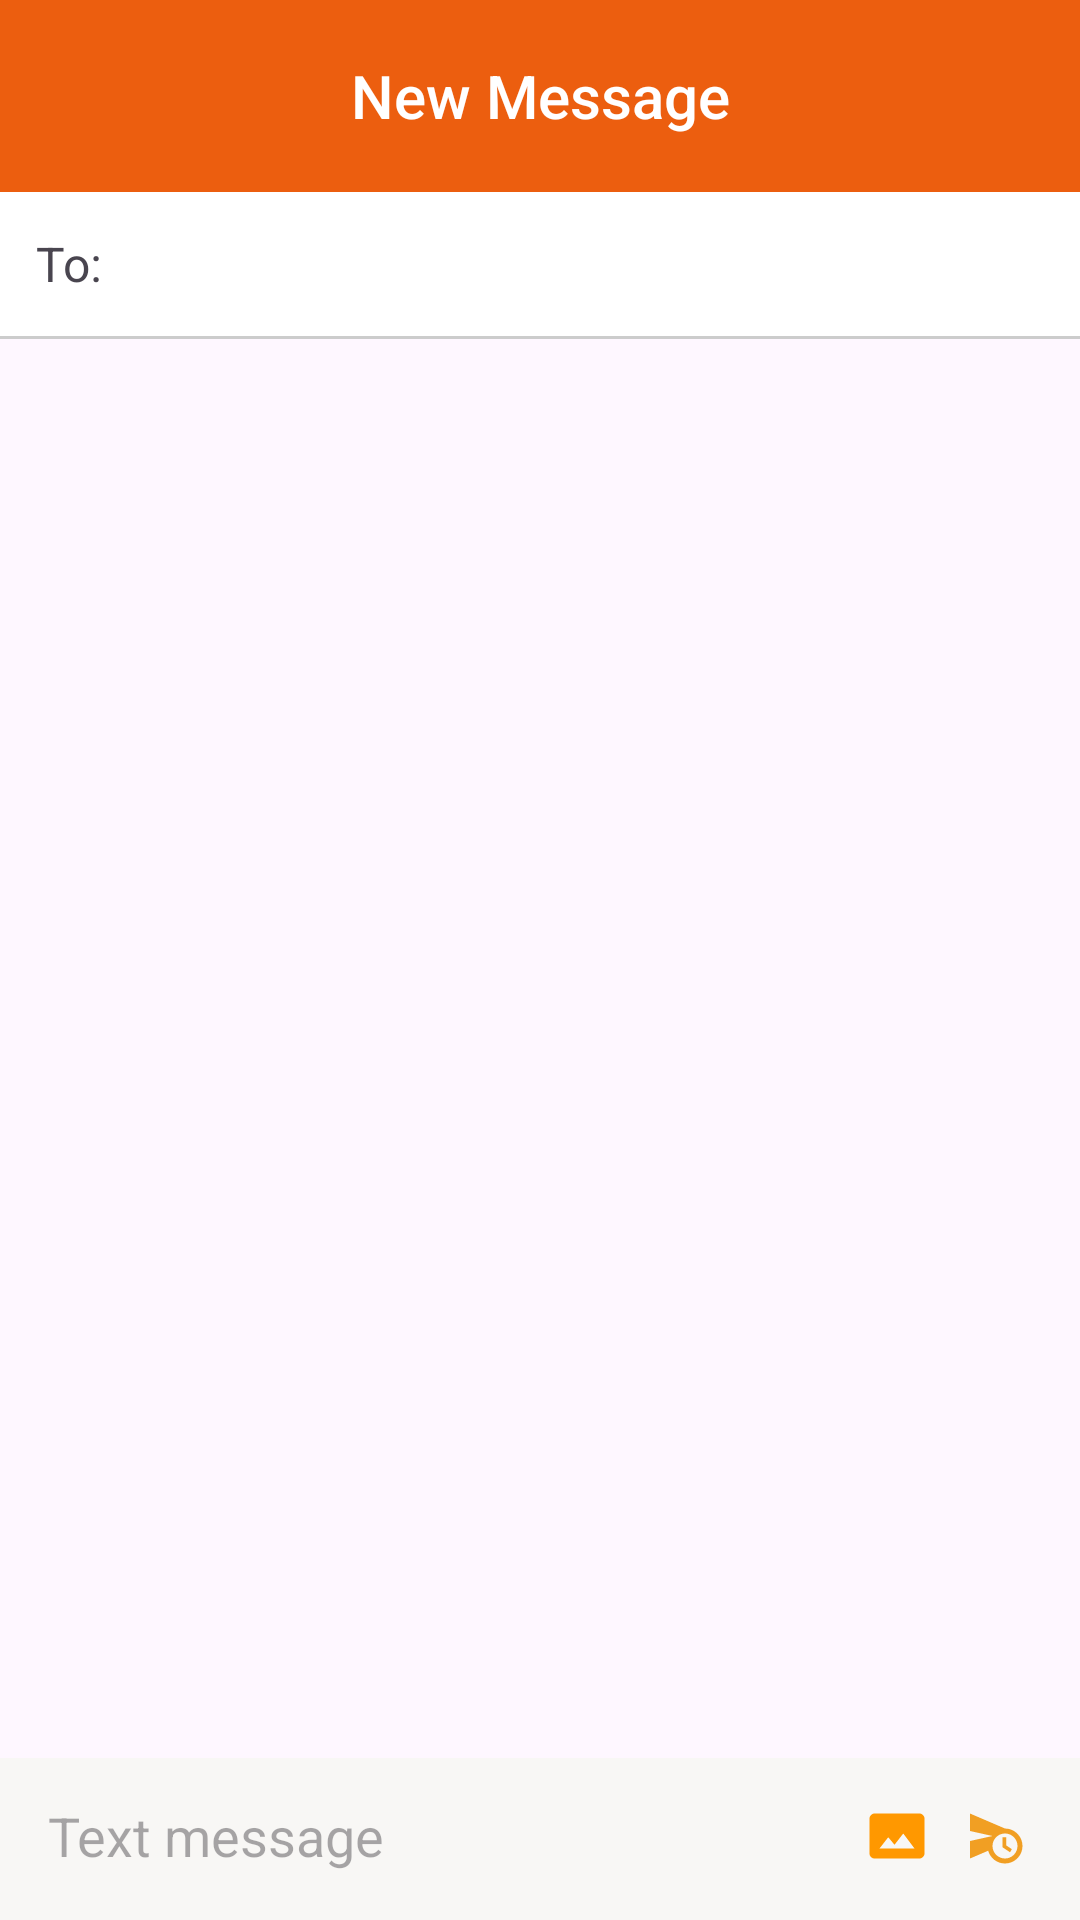

Where icons sit on this 1080w x 1920h app screen, as (x1, y1, x2, y2):
photo: (869, 1813, 925, 1859)
sendto: (970, 1813, 1023, 1864)
